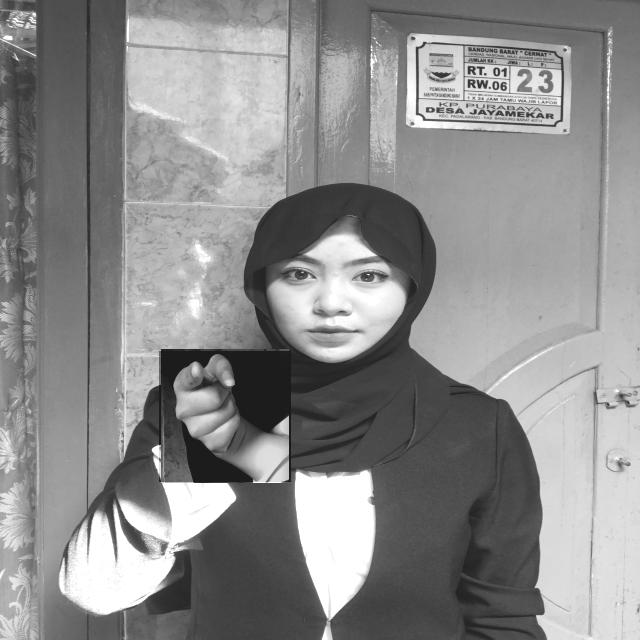kamu: (159, 351, 291, 482)
